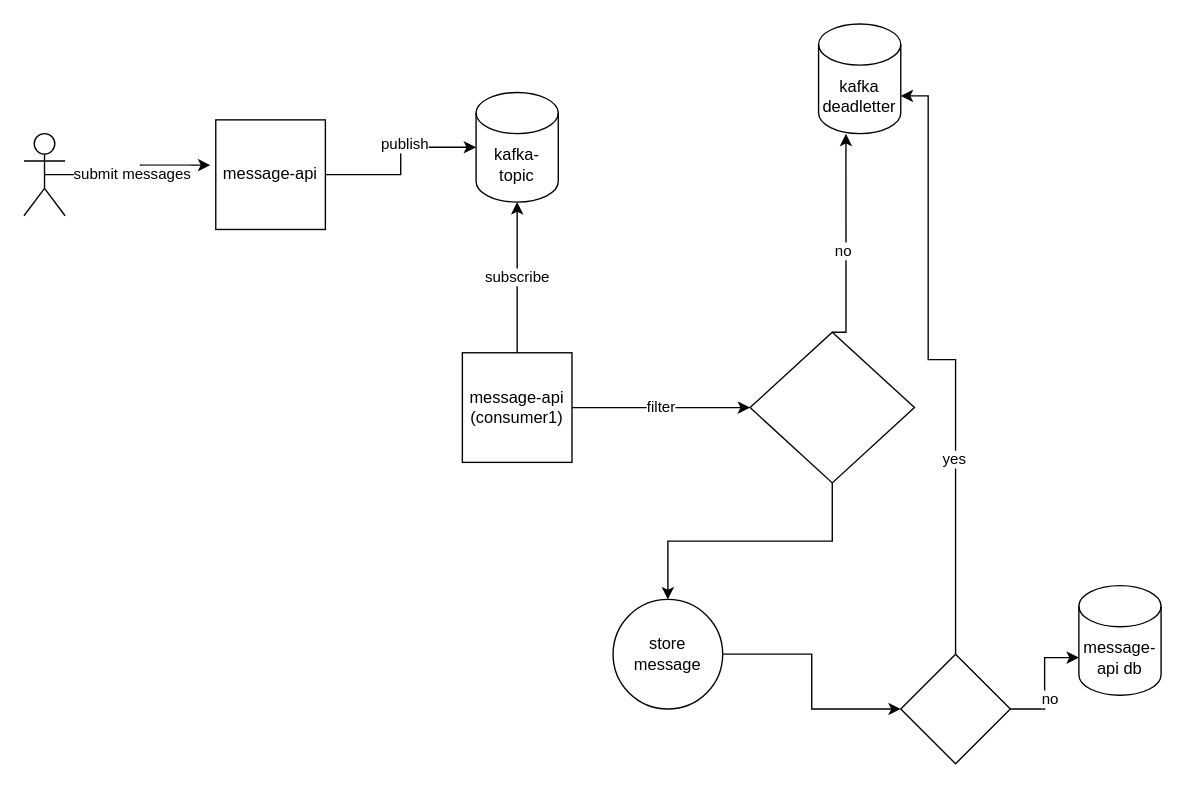
The diagram is 1185 pixels wide and 788 high, and some of its shapes have lost their labels. The shapes that lost their labels are listed below. From the top down, each one's box as (x1, y1, x2, y2) in pixels, then its label:
(23, 132, 65, 216): Actor
(749, 331, 914, 483): message doesn't contain forbidden words ?
(899, 653, 1010, 764): exception ?
